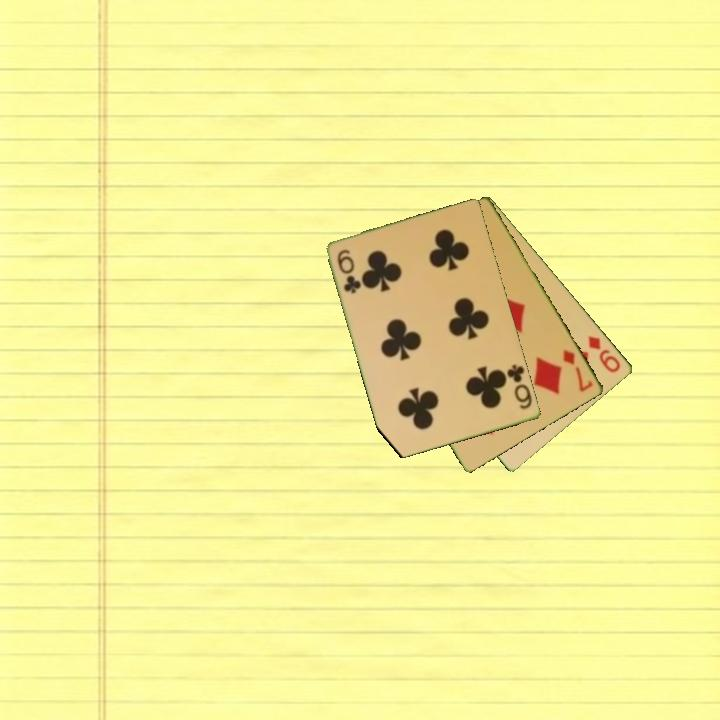6c: (504, 361, 535, 412), (334, 246, 363, 297)
7d: (559, 346, 596, 395)
9d: (585, 332, 624, 376)
